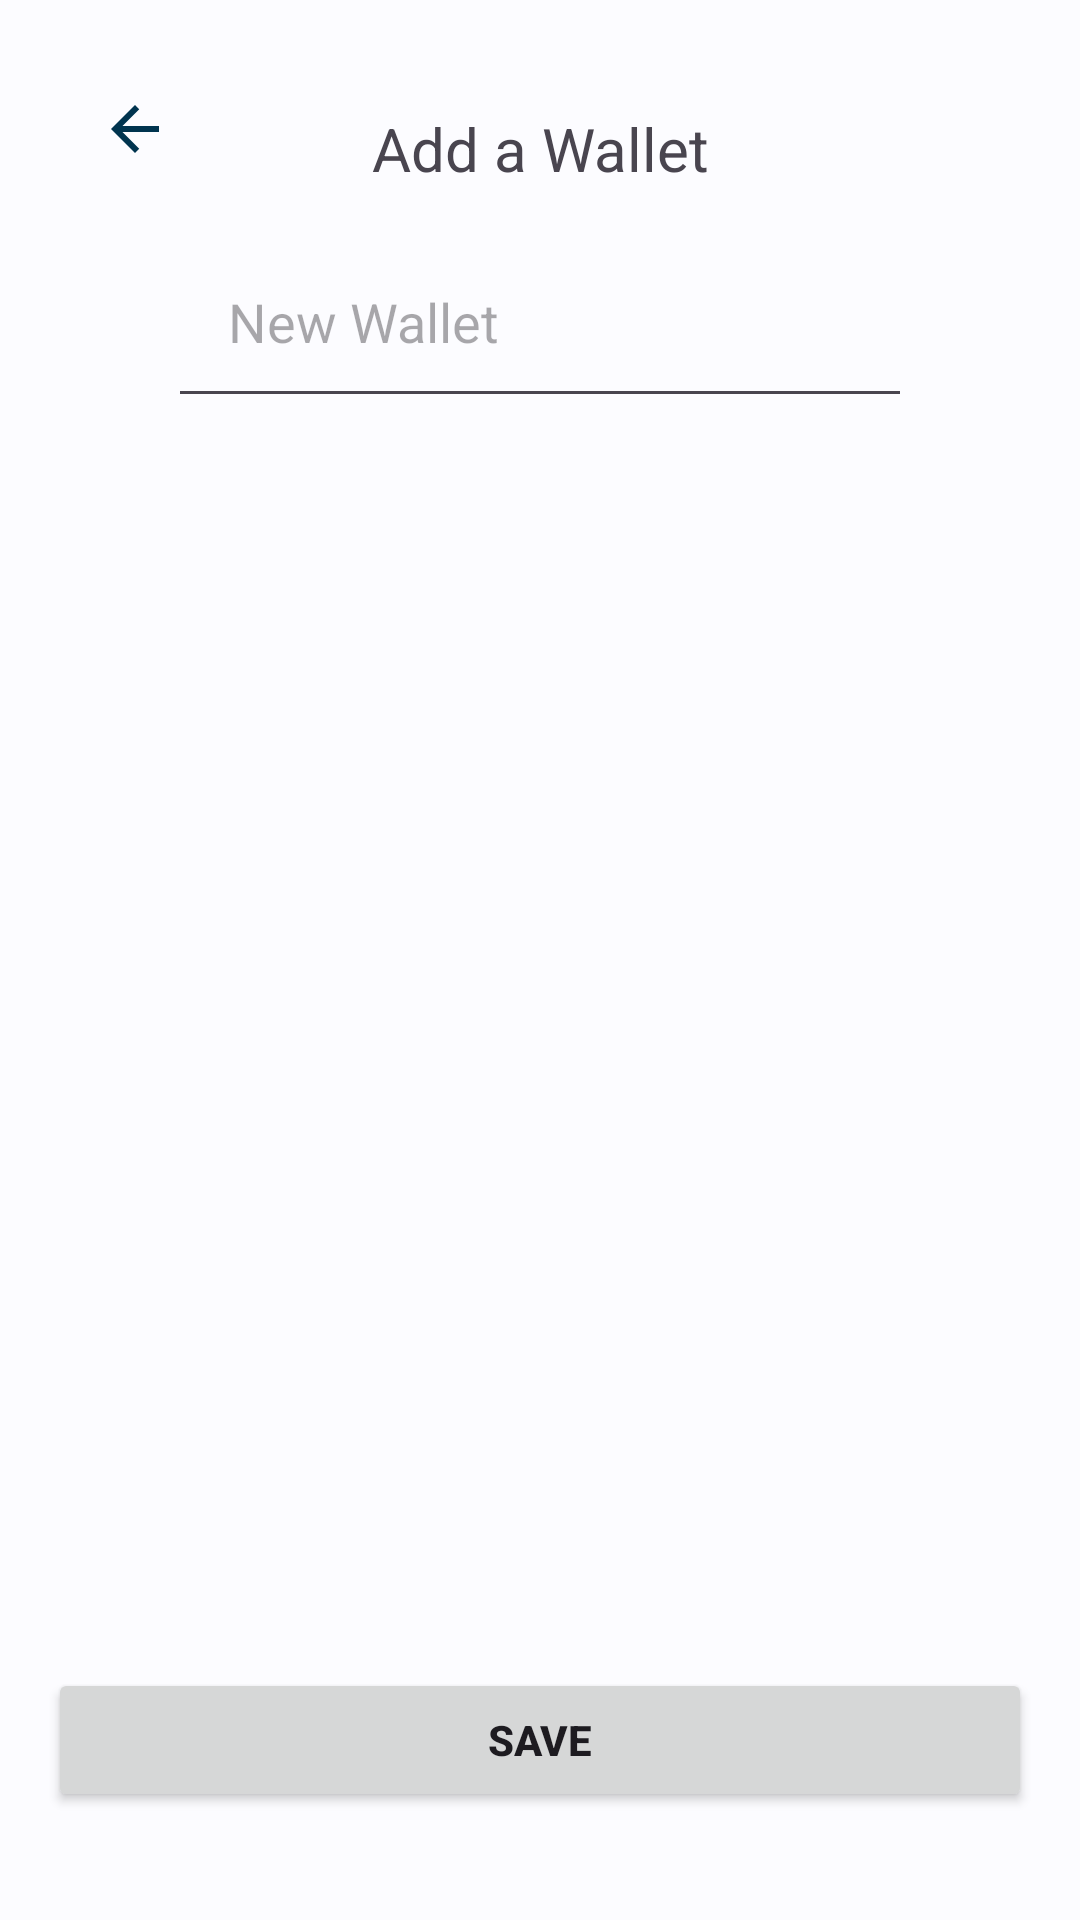

Locate icon controls on the screen. Image size 1080*1920, boxes as (x1, y1, x2, y2).
back: (111, 105, 159, 153)
